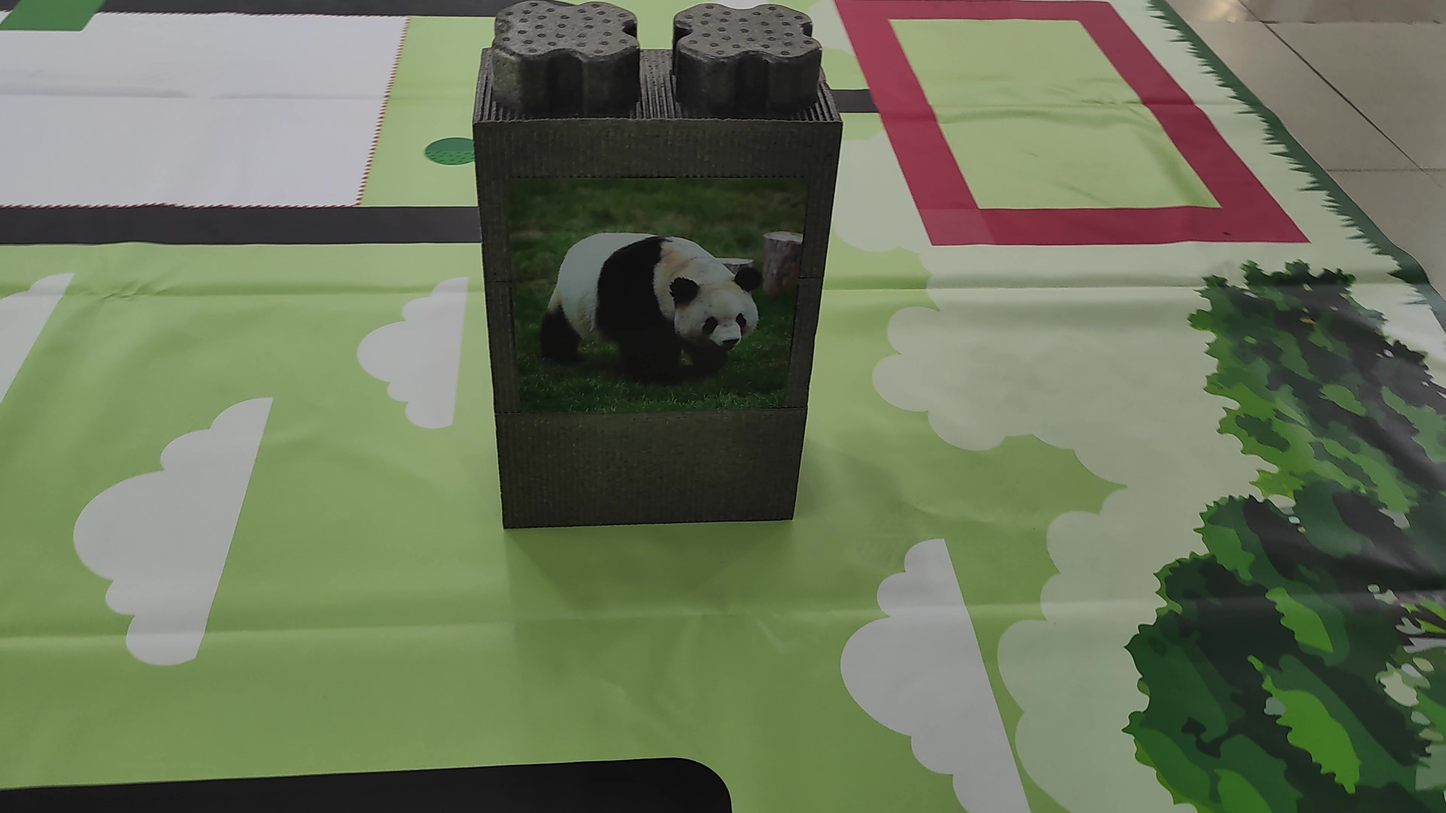panda: (529, 208, 784, 405)
